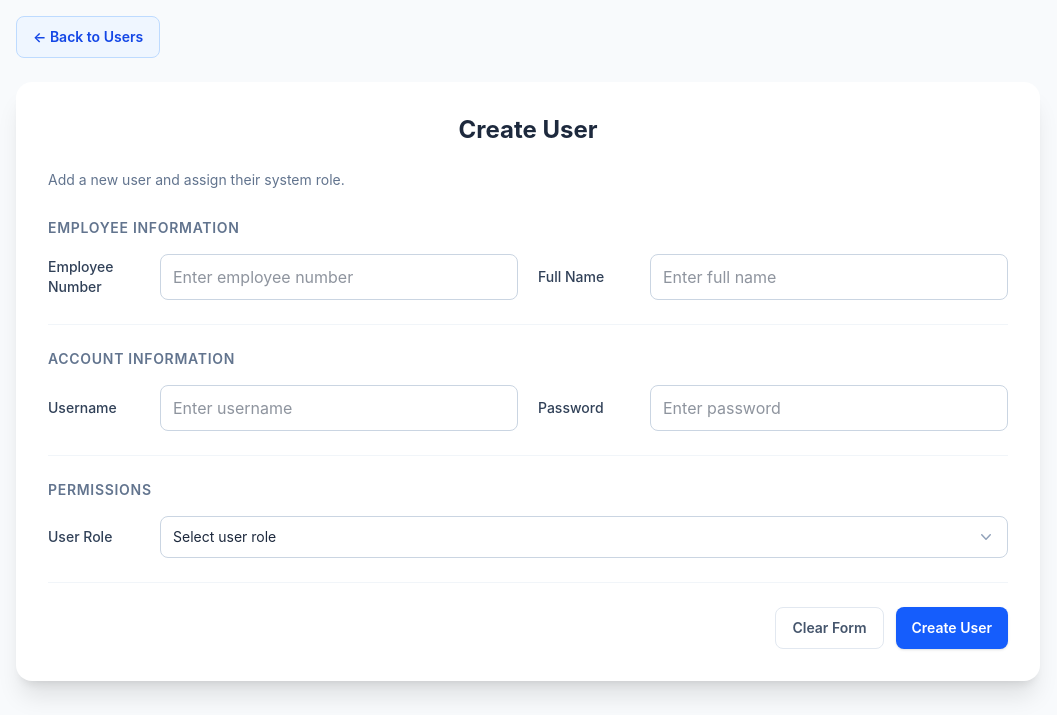
CreateUser page › clears all fields when Clear Form is clicked
Type "EMP-2021" into the field labelled "Employee Number".
click(339, 277); type("EMP-2021")  # box top-left (160, 254), bottom-right (518, 300)
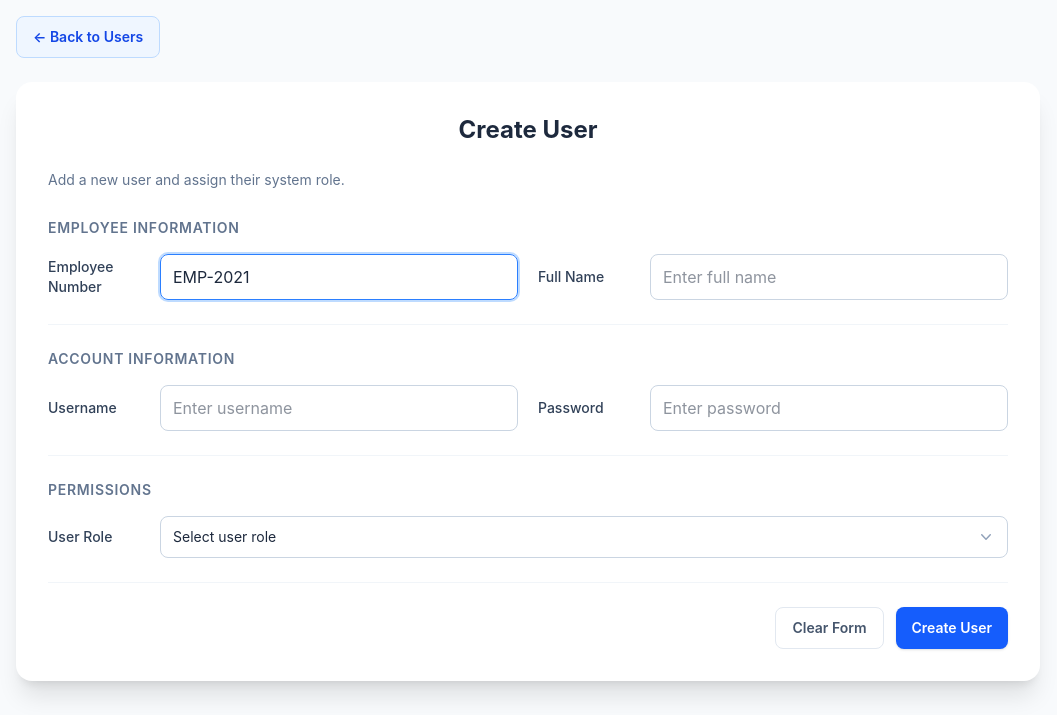
Type "Taylor Technician" into the field labelled "Full Name".
click(829, 277); type("Taylor Technician")  # box top-left (650, 254), bottom-right (1008, 300)
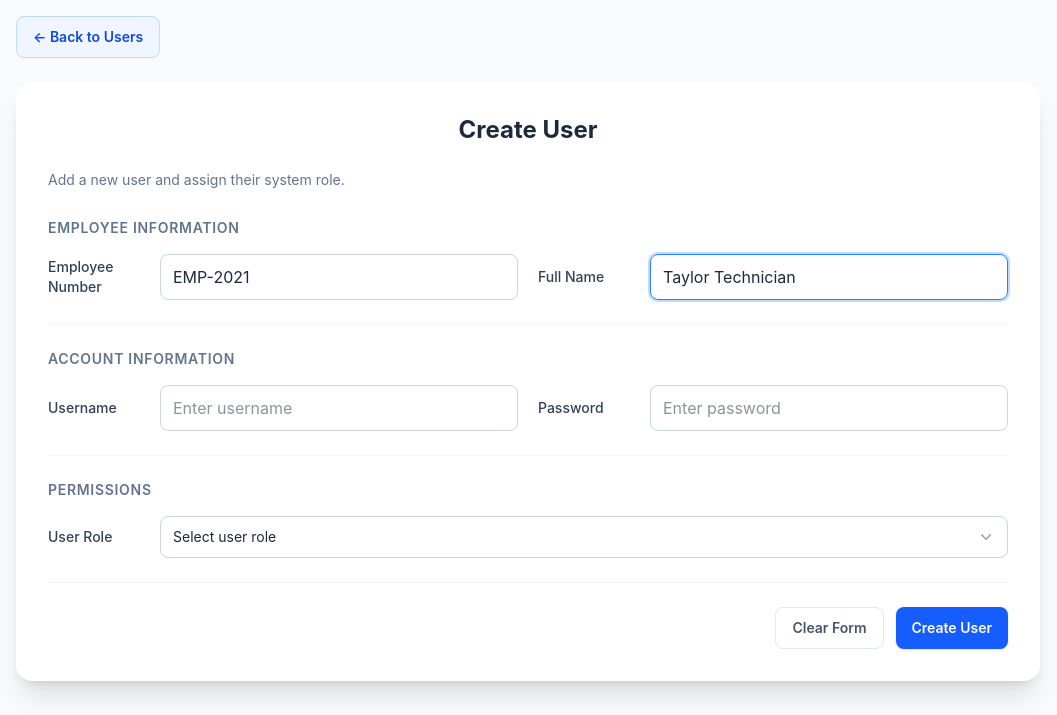
Type "taylor.t" into the field labelled "Username".
click(339, 408); type("taylor.t")  # box top-left (160, 385), bottom-right (518, 431)
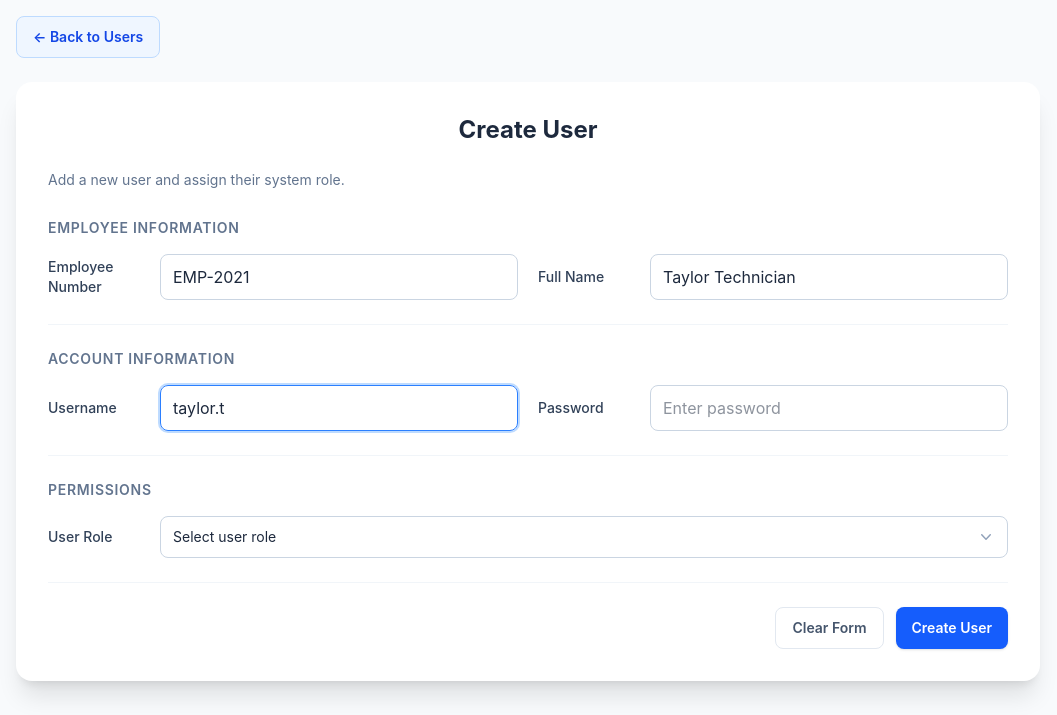
Type "secure-password" into the password field labelled "Password".
click(829, 408); type("secure-password")  # box top-left (650, 385), bottom-right (1008, 431)
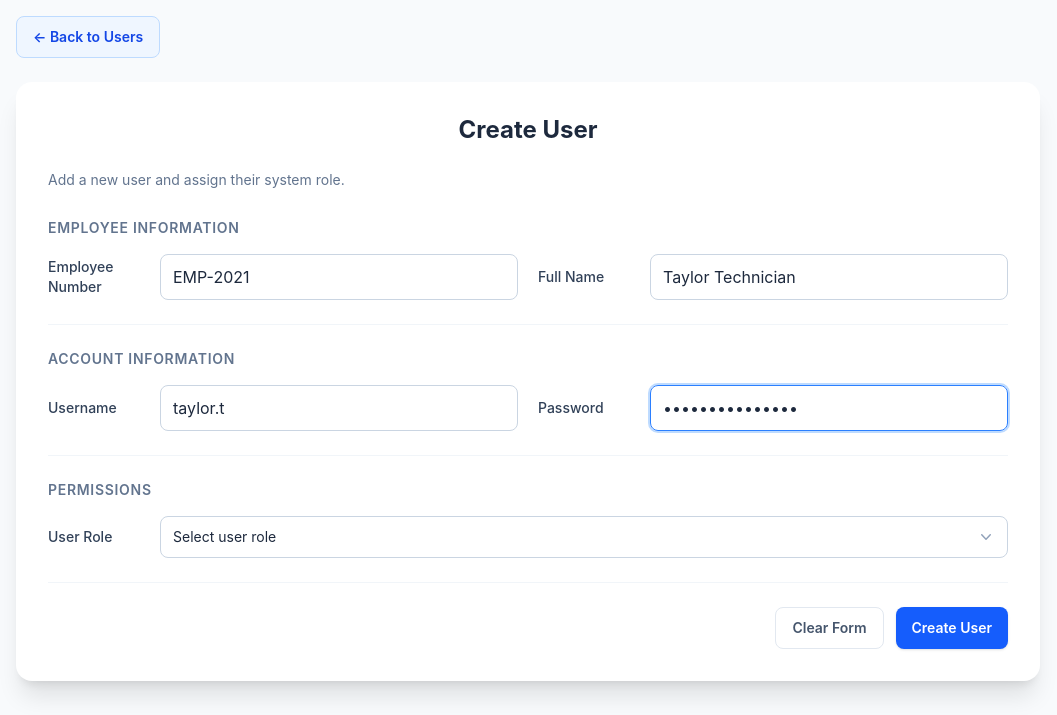
Select "Technician" in the dropdown labelled "User Role" at (584, 537), box top-left (160, 516), bottom-right (1008, 558)
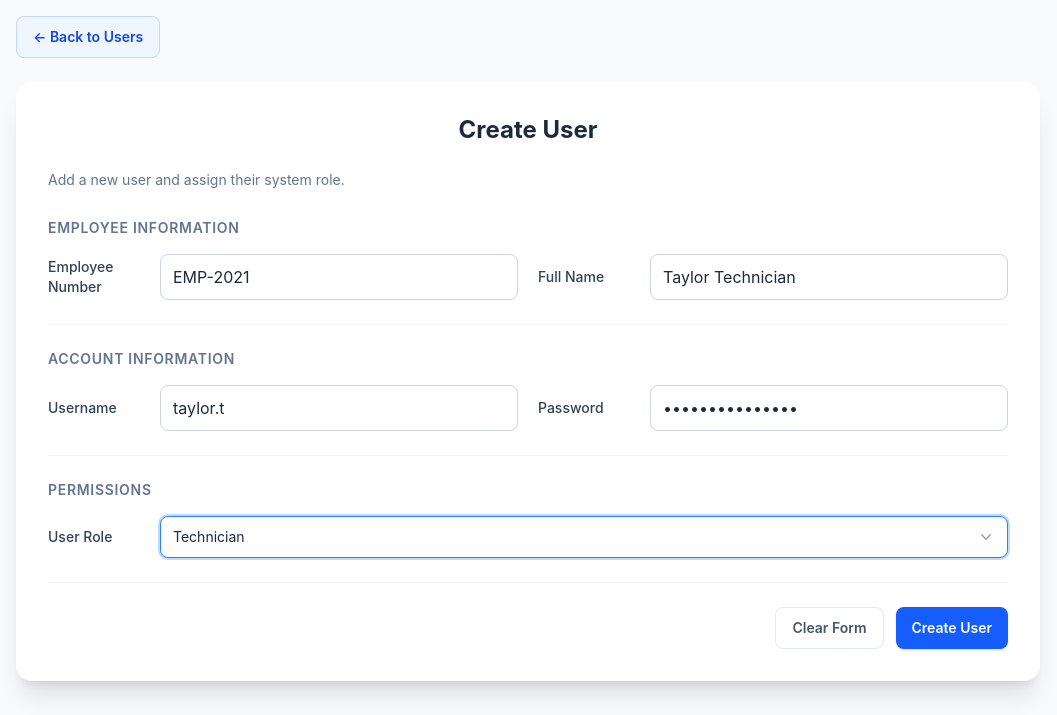
Click the button "Clear Form".
click(829, 628)  # box top-left (775, 607), bottom-right (884, 649)
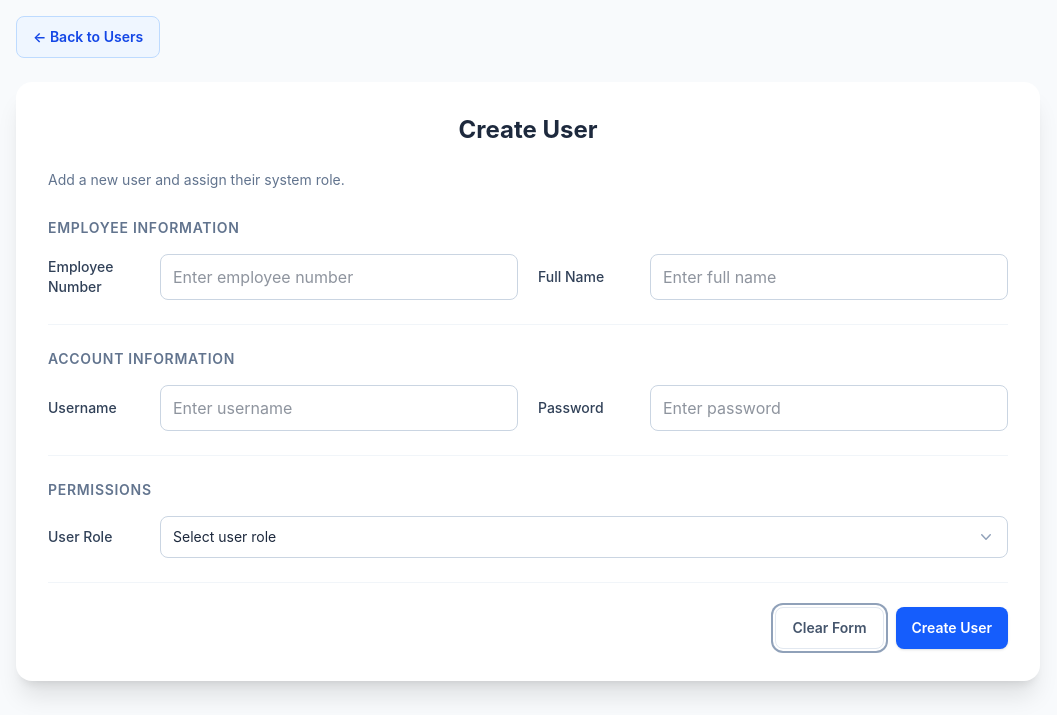
Now the field labelled "Employee Number" is empty, box top-left (160, 254), bottom-right (518, 300)
Now the field labelled "Full Name" is empty, box top-left (650, 254), bottom-right (1008, 300)
Now the field labelled "Username" is empty, box top-left (160, 385), bottom-right (518, 431)
